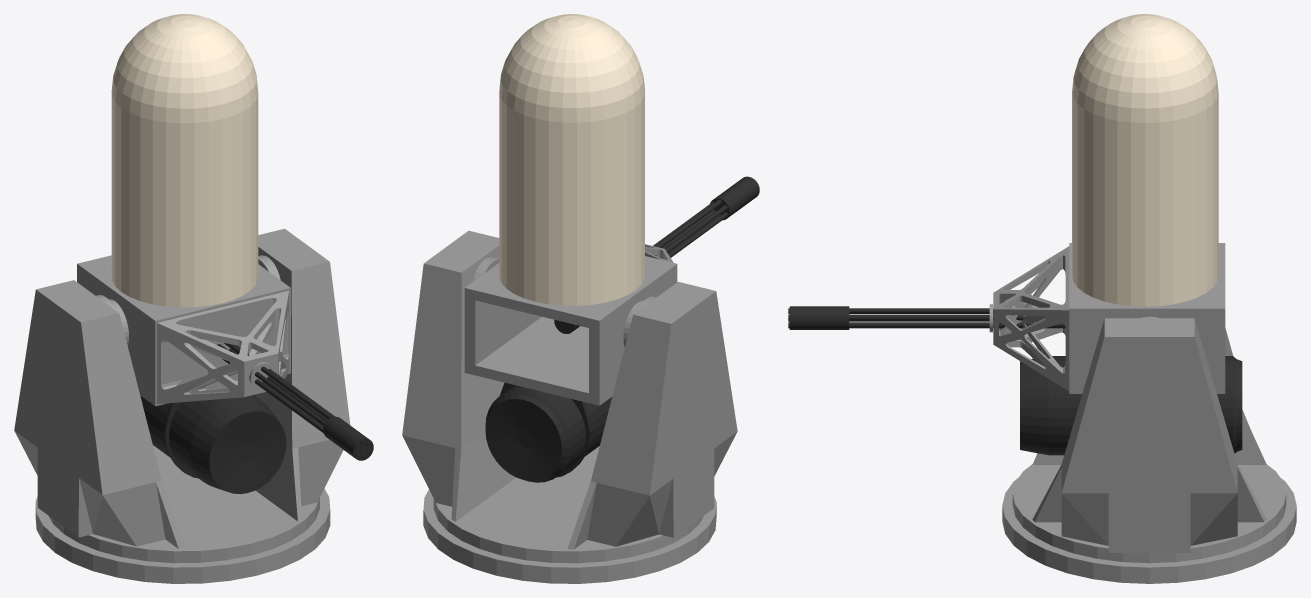
The model's file is phalanx.glb.
The picture shows the model from 3 angles, left to right: view 1: azimuth 30°, elevation 25°; view 2: azimuth 150°, elevation 25°; view 3: azimuth 270°, elevation 25°; orthographic projection.
Visible parts, largest first — view 1: Phalanx_Support, Phalanx_Dome, Phalanx_GunBoxCover, yaw, Phalanx_AmmoBox, Base, Phalanx_GunBox, barrel; view 2: Phalanx_Support, Phalanx_Dome, Phalanx_GunBox, yaw, Phalanx_AmmoBox, Base, barrel; view 3: Phalanx_Dome, Phalanx_Support, Base, yaw, Phalanx_GunBox, Phalanx_GunBoxCover, Phalanx_AmmoBox, barrel.
Boxes of the visible parts, left/top/right/bottom form: Phalanx_Support: left=14, top=228, right=350, bottom=549; Phalanx_Dome: left=111, top=14, right=258, bottom=307; Phalanx_GunBoxCover: left=157, top=291, right=289, bottom=404; yaw: left=49, top=445, right=319, bottom=563; Phalanx_AmmoBox: left=140, top=394, right=286, bottom=494; Base: left=35, top=488, right=330, bottom=583; Phalanx_GunBox: left=77, top=255, right=290, bottom=406; barrel: left=217, top=343, right=373, bottom=460; Phalanx_Support: left=402, top=230, right=737, bottom=549; Phalanx_Dome: left=499, top=14, right=644, bottom=305; Phalanx_GunBox: left=464, top=256, right=677, bottom=405; yaw: left=433, top=446, right=703, bottom=563; Phalanx_AmmoBox: left=485, top=382, right=611, bottom=482; Base: left=423, top=489, right=716, bottom=583; barrel: left=554, top=176, right=759, bottom=333; Phalanx_Dome: left=1072, top=14, right=1218, bottom=306; Phalanx_Support: left=1032, top=316, right=1266, bottom=552; Base: left=1002, top=478, right=1296, bottom=583; yaw: left=1012, top=464, right=1286, bottom=563; Phalanx_GunBox: left=1069, top=243, right=1225, bottom=393; Phalanx_GunBoxCover: left=989, top=246, right=1069, bottom=390; Phalanx_AmmoBox: left=1020, top=356, right=1242, bottom=455; barrel: left=788, top=306, right=1065, bottom=329.
Bounding box in the file's own units: 2.37 × 4.46 × 4.1.
